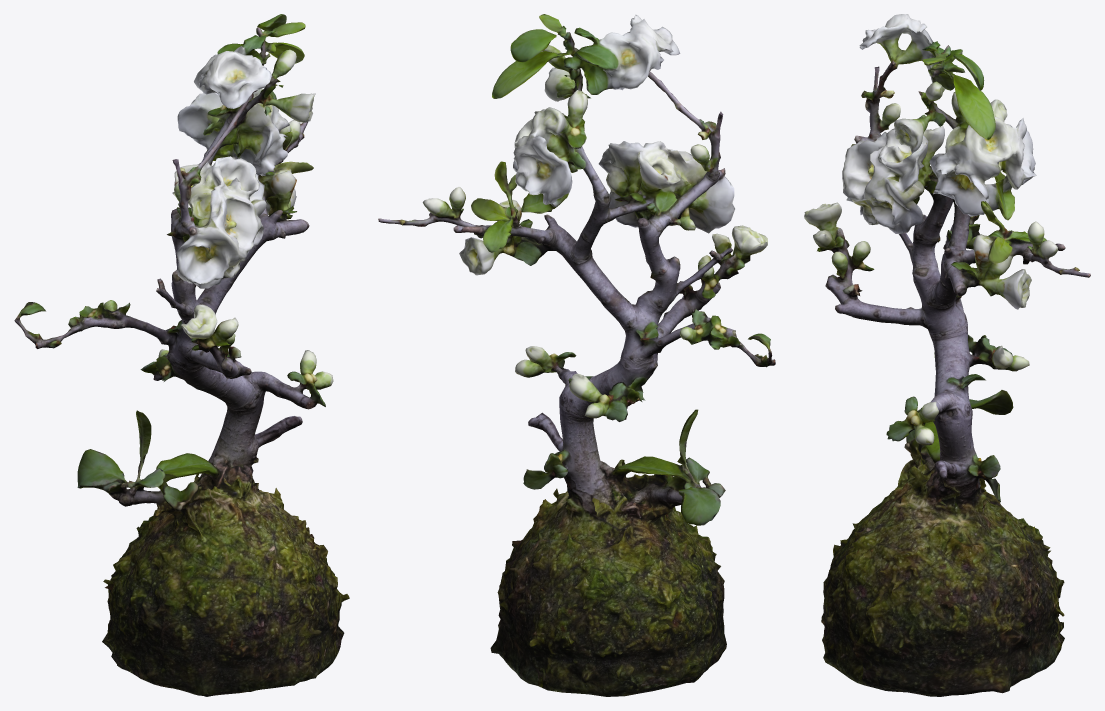
Rendered from 0-kokeball02.fbx.
3 renders of one model, left to right at view 1: azimuth 30°, elevation 25°; view 2: azimuth 150°, elevation 25°; view 3: azimuth 270°, elevation 25°, orthographic.
Parts seen in each view (by area): view 1: kokeball02; view 2: kokeball02; view 3: kokeball02.
Boxes of the visible parts, x1,y1,x2,y2 form: kokeball02: [14, 14, 349, 696]; kokeball02: [378, 14, 775, 696]; kokeball02: [804, 14, 1090, 696].
Size of the model in its own units: 17.69 by 30.28 by 12.49.
